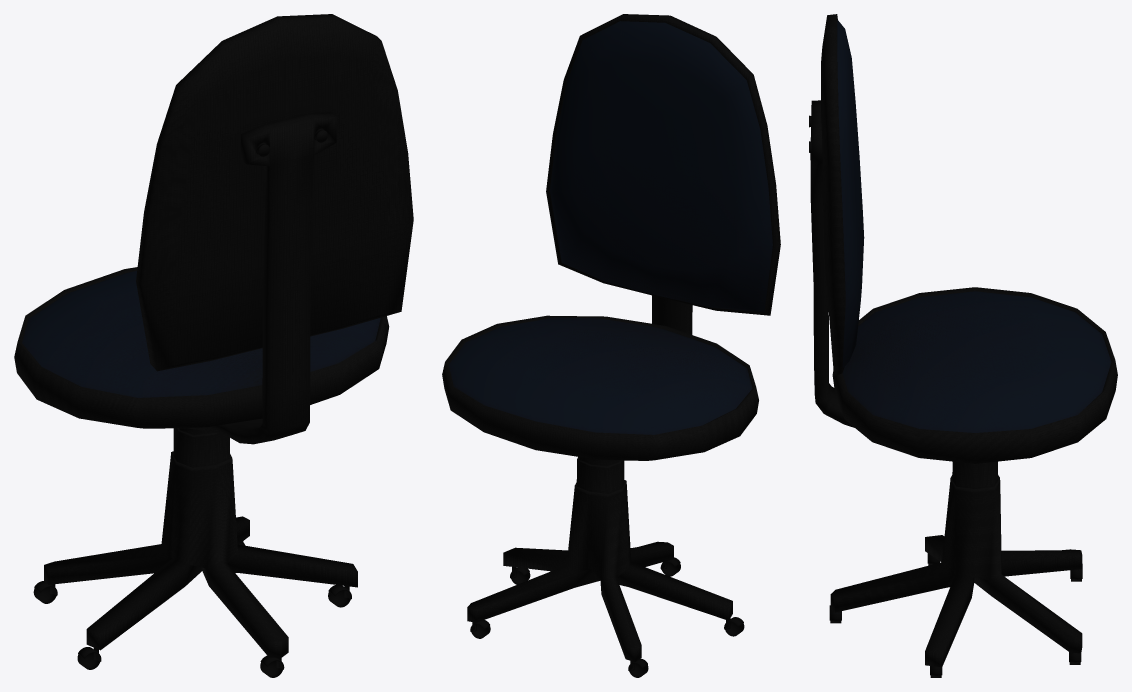
File: Chair.fbx
The picture shows the model from 3 angles, left to right: view 1: azimuth 30°, elevation 25°; view 2: azimuth 150°, elevation 25°; view 3: azimuth 270°, elevation 25°; orthographic projection. The views are drawn at different scales.
Parts seen in each view (by area): view 1: Skeleton; view 2: Skeleton; view 3: Skeleton.
Part boxes in pixels (bbox=[...]): Skeleton: bbox=[14, 14, 413, 677]; Skeleton: bbox=[442, 14, 780, 677]; Skeleton: bbox=[809, 14, 1117, 677].
Bounding box in the file's own units: 2.01 × 3.76 × 1.76.
2 materials, 2 textured.
